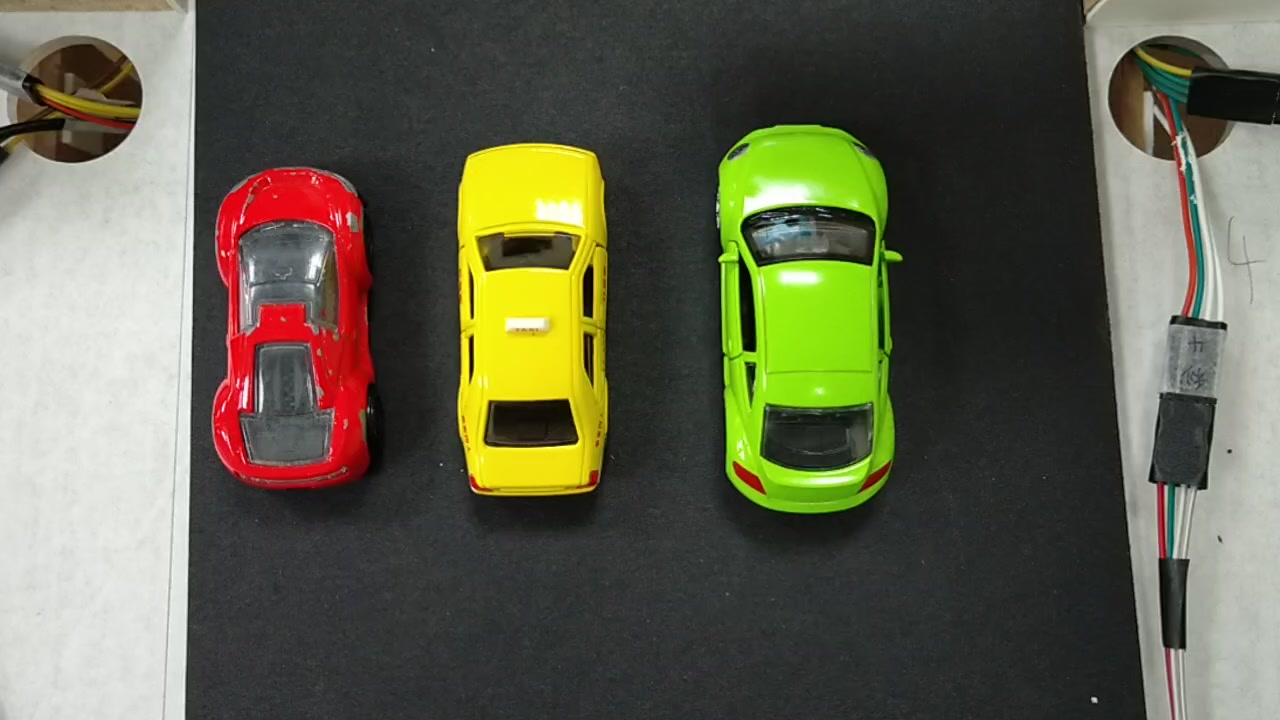car: (727, 143, 899, 511), (464, 149, 611, 492), (217, 167, 366, 482)
